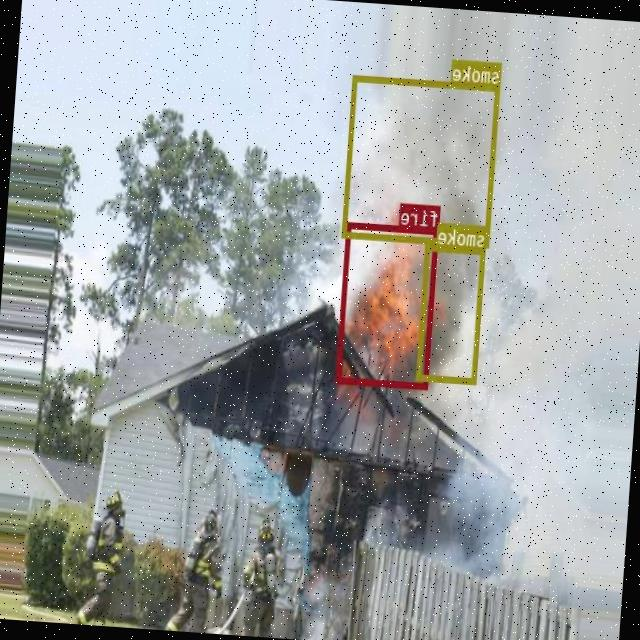fire: (336, 220, 440, 388)
smoke: (342, 73, 501, 246), (417, 243, 486, 383)
